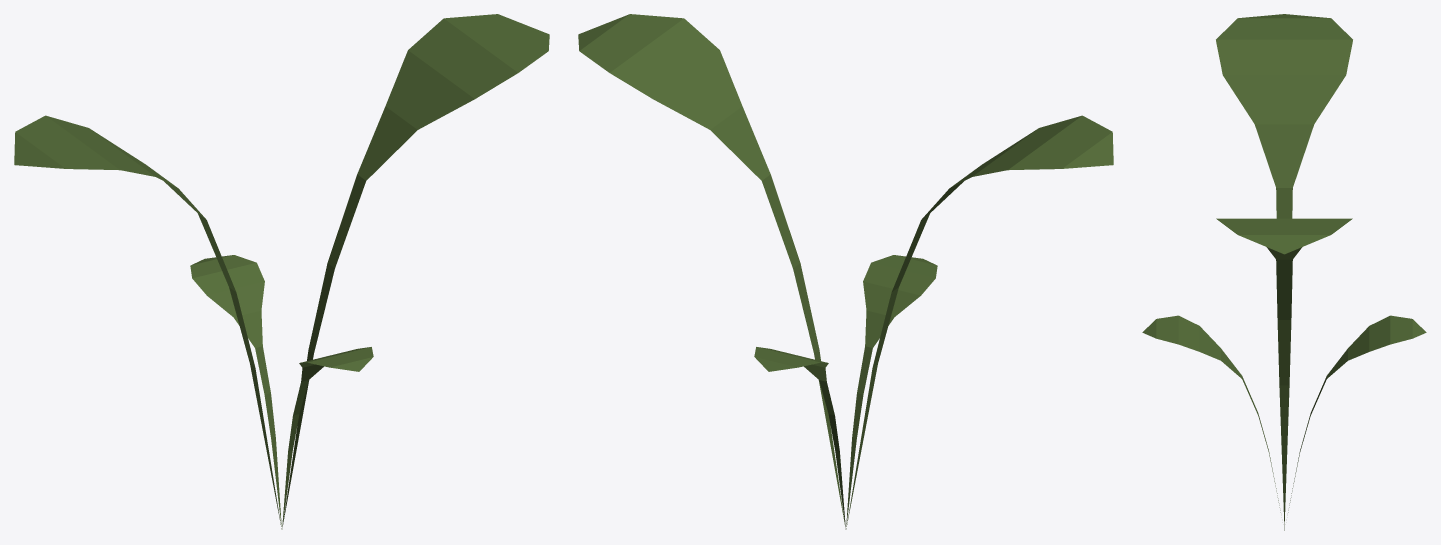
File: stage_0.fbx
3 views of the same model, side by side, from view 1: azimuth 30°, elevation 25°; view 2: azimuth 150°, elevation 25°; view 3: azimuth 270°, elevation 25° (orthographic). The views are drawn at different scales.
Parts seen in each view (by area): view 1: stage_0; view 2: stage_0; view 3: stage_0.
Part boxes in pixels (x1,y1,x2,y2): stage_0: (14, 14, 549, 529); stage_0: (578, 14, 1113, 529); stage_0: (1142, 14, 1426, 530).
Size of the model in its own units: 52.45 by 41.13 by 26.23.
